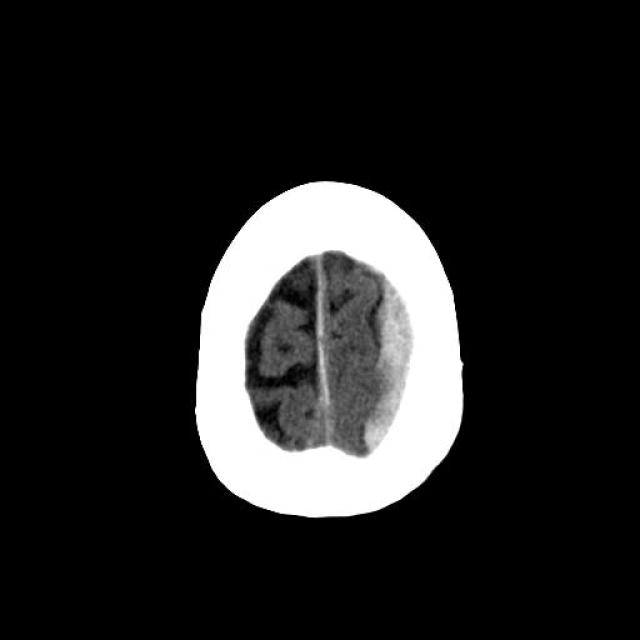Subdural: (344, 243, 426, 467), (287, 245, 335, 459)
